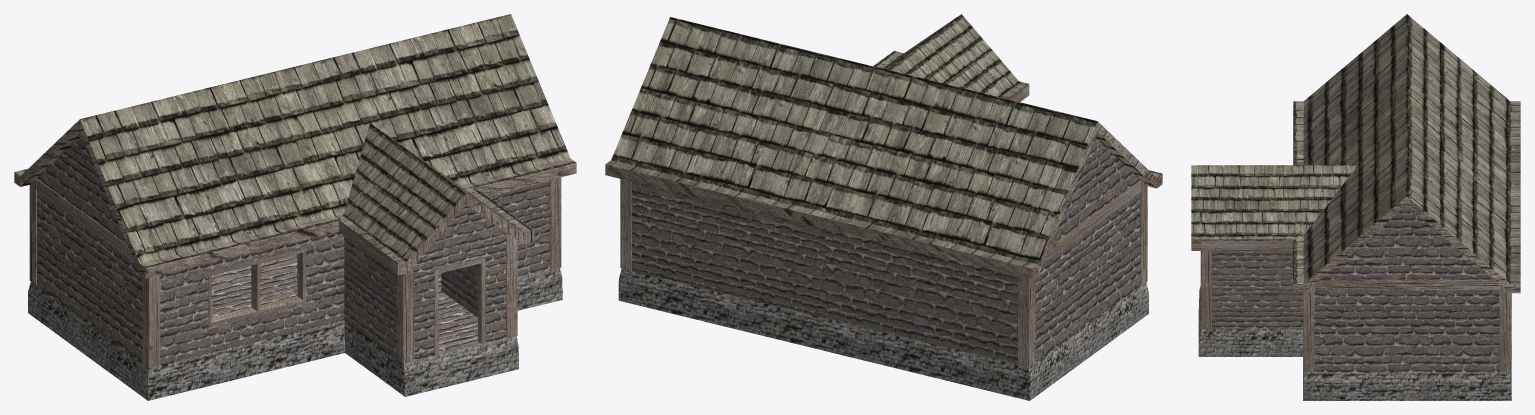
File: house.obj
The picture shows the model from 3 angles, left to right: view 1: azimuth 30°, elevation 25°; view 2: azimuth 150°, elevation 25°; view 3: azimuth 270°, elevation 25°; orthographic projection. The views are drawn at different scales.
Parts seen in each view (by area): view 1: Roof1, Plane, Wall2, Roof2, Wall1, Wall5, Wall4, Wall7, Cube.015, Cube.010, Cube.026, Cube.011 (+5 smaller); view 2: Roof1, Plane, Wall9, Wall3, Wall2, Roof2, Cube.014, Cube.026, Cube.013, Cube.015; view 3: Roof1, Wall8, Roof2, Plane, Wall6, Cube.025, Cube.013, Cube.012, Cube.011.
Part boxes in pixels (<box>): Roof1: <box>14,14,576,278</box>; Plane: <box>28,254,562,400</box>; Wall2: <box>37,135,142,362</box>; Roof2: <box>339,123,534,275</box>; Wall1: <box>160,231,344,364</box>; Wall5: <box>414,205,506,360</box>; Wall4: <box>344,236,396,358</box>; Wall7: <box>441,180,549,294</box>; Cube.015: <box>142,258,160,367</box>; Cube.010: <box>397,266,414,363</box>; Cube.026: <box>36,178,134,261</box>; Cube.011: <box>506,232,517,338</box>; Roof1: <box>605,17,1162,279</box>; Plane: <box>618,269,1148,400</box>; Wall9: <box>632,181,825,317</box>; Wall3: <box>825,229,1017,364</box>; Wall2: <box>1035,137,1140,362</box>; Roof2: <box>873,14,1029,101</box>; Cube.014: <box>1018,259,1035,367</box>; Cube.026: <box>1044,180,1140,262</box>; Cube.013: <box>620,162,631,270</box>; Cube.015: <box>1140,180,1147,285</box>; Roof1: <box>1293,14,1520,293</box>; Wall8: <box>1314,206,1499,372</box>; Roof2: <box>1191,165,1357,250</box>; Plane: <box>1198,286,1511,400</box>; Wall6: <box>1212,235,1303,328</box>; Cube.025: <box>1314,279,1499,289</box>; Cube.013: <box>1499,275,1510,372</box>; Cube.012: <box>1303,275,1314,372</box>; Cube.011: <box>1200,251,1211,328</box>.
Size of the model in its own units: 42 by 22.34 by 32.06.
11 materials, 10 textured.
